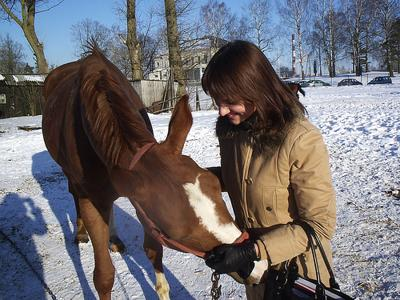person: (199, 37, 335, 300)
